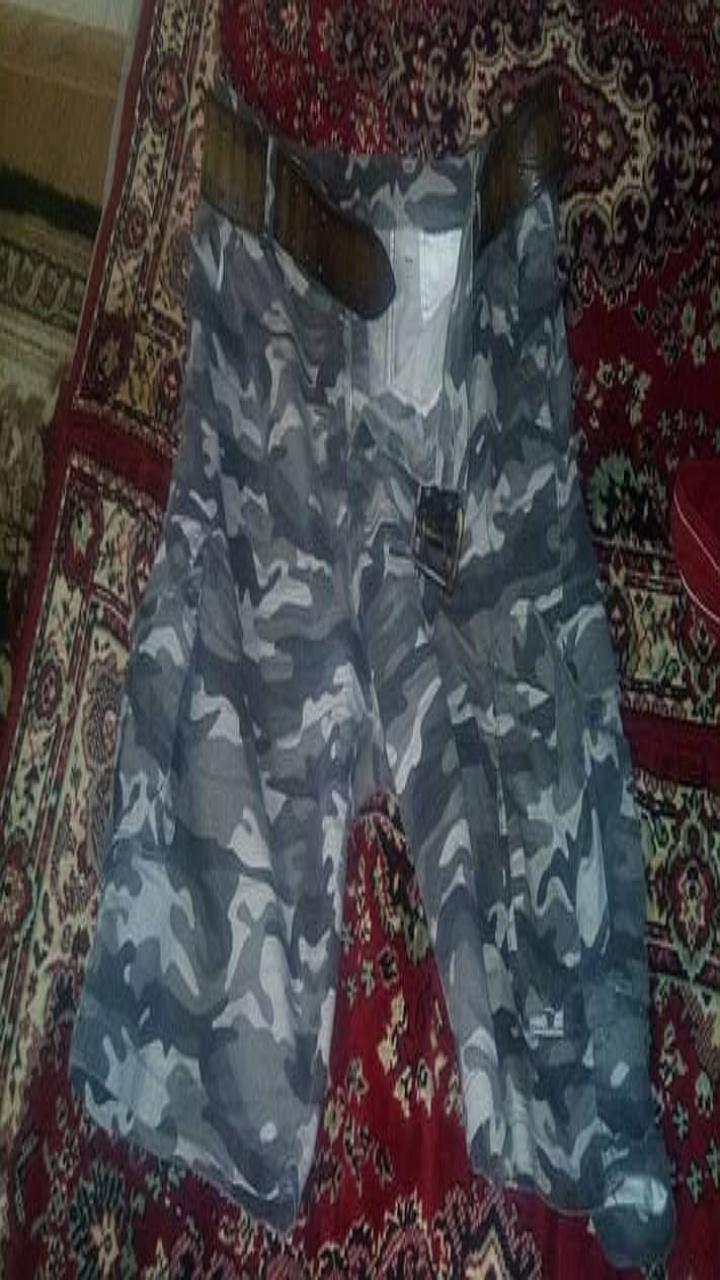Shorts: (71, 148, 672, 1260)
